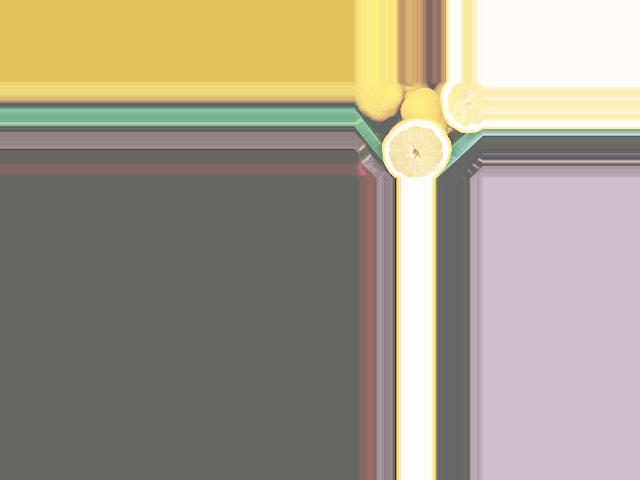lemon: (401, 85, 448, 129)
